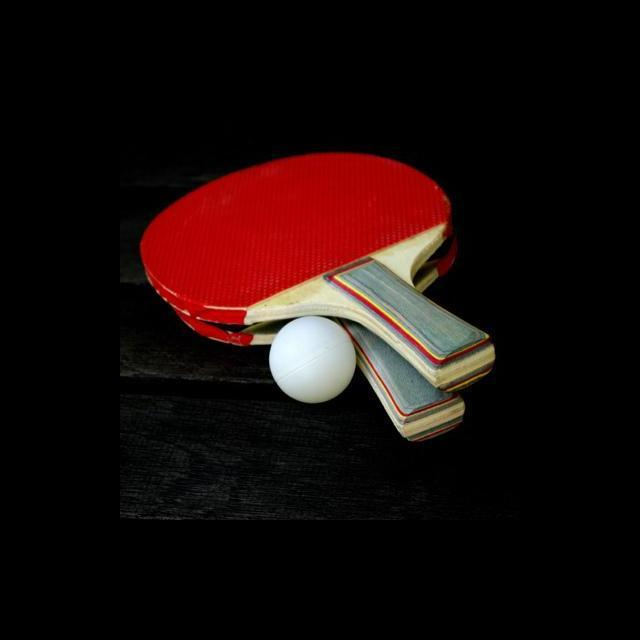ping-pong-ball: (269, 314, 360, 406)
